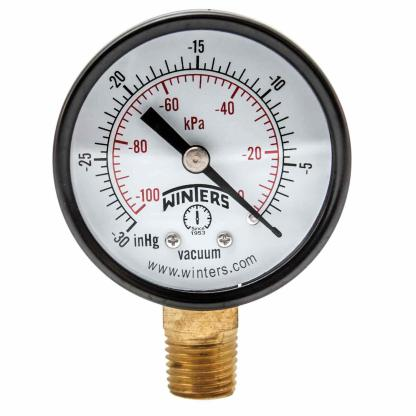needle: (202, 163, 281, 237)
